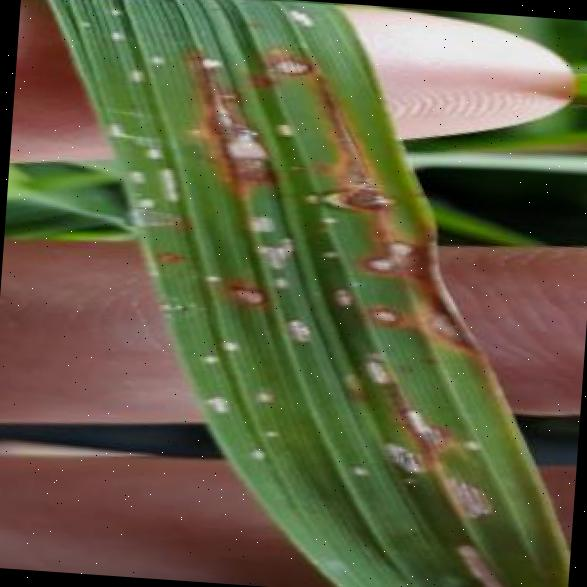Leaf_smut: (306, 115, 398, 226), (187, 84, 274, 192), (188, 252, 278, 350), (413, 456, 517, 528), (398, 286, 490, 364), (377, 392, 482, 460), (108, 222, 210, 291), (340, 222, 440, 292), (354, 423, 435, 496), (435, 529, 523, 587), (342, 338, 404, 389), (353, 288, 402, 344)
